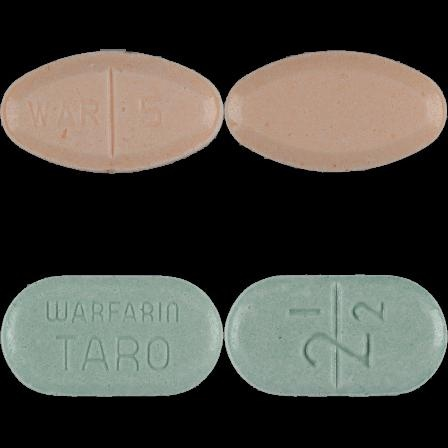49349-716: (0, 0, 224, 224)
